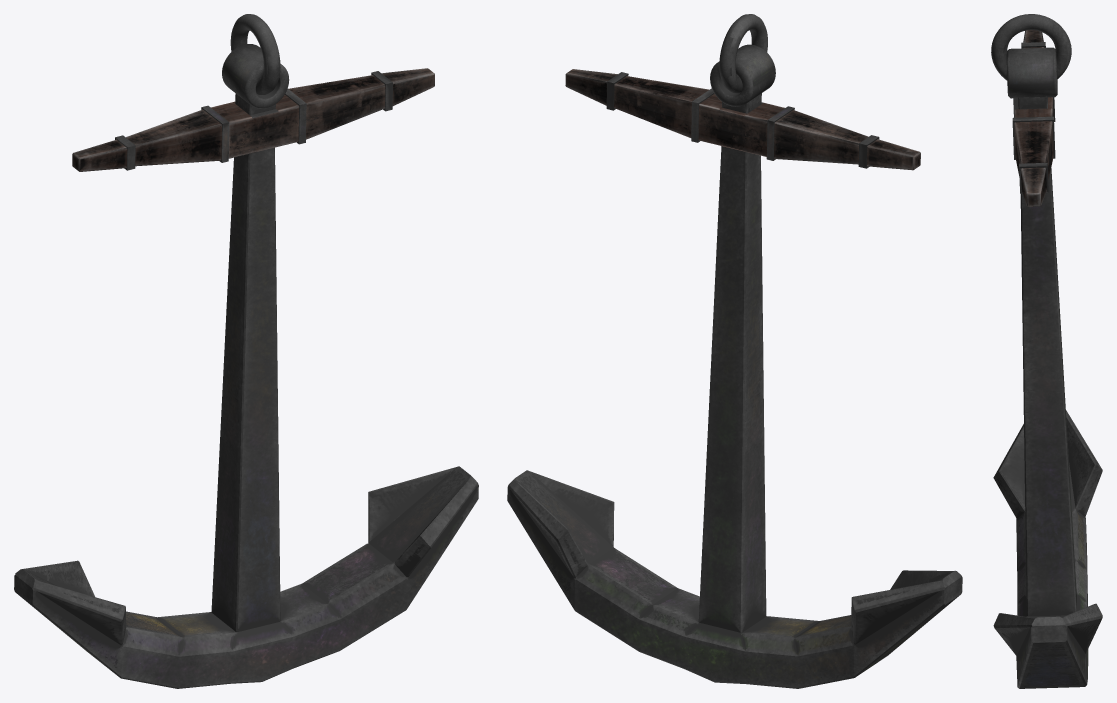
3 renders of one model, left to right at view 1: azimuth 30°, elevation 25°; view 2: azimuth 150°, elevation 25°; view 3: azimuth 270°, elevation 25°, orthographic. The views are drawn at different scales.
Visible parts, largest first — view 1: Object_4, Object_3, Object_2; view 2: Object_4, Object_3, Object_2; view 3: Object_4, Object_2, Object_3.
Part boxes in pixels (left/top/right/bottom): Object_4: left=14, top=93, right=478, bottom=688; Object_3: left=72, top=68, right=434, bottom=171; Object_2: left=222, top=14, right=289, bottom=108; Object_4: left=507, top=93, right=962, bottom=688; Object_3: left=565, top=69, right=920, bottom=170; Object_2: left=710, top=14, right=775, bottom=106; Object_4: left=993, top=96, right=1102, bottom=688; Object_2: left=991, top=14, right=1071, bottom=98; Object_3: left=1012, top=30, right=1055, bottom=206.
Bounding box in the file's own units: 9.37 × 2.09 × 13.27.
Materials: 3 (3 with a texture image).
